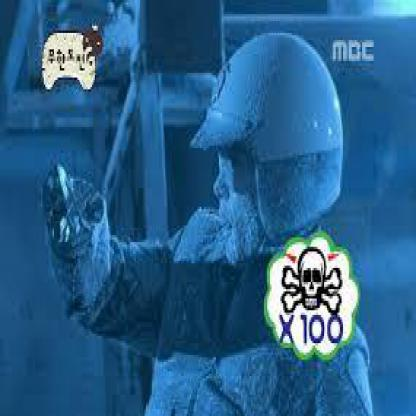skull: (279, 246, 343, 315)
